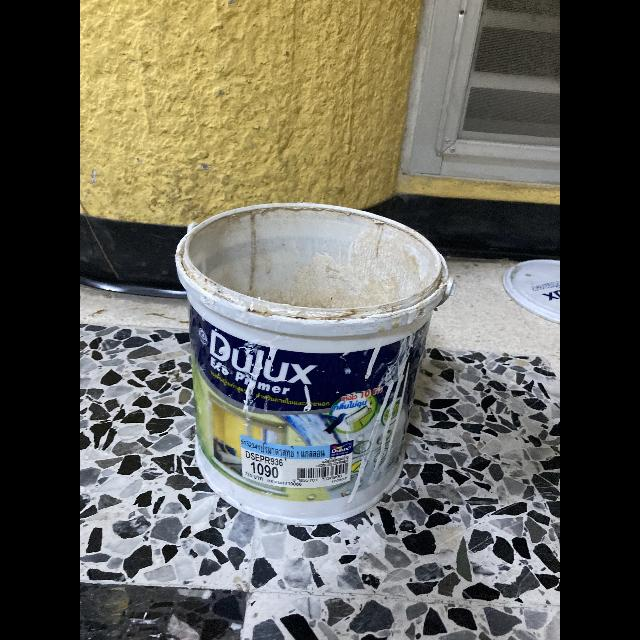paint_bucket: (175, 205, 452, 525)
